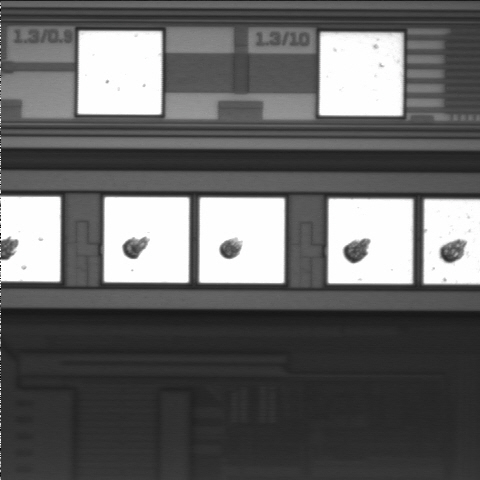pad: (104, 197, 189, 283), (199, 198, 285, 283), (328, 199, 413, 284), (78, 31, 162, 115), (319, 33, 403, 116)
